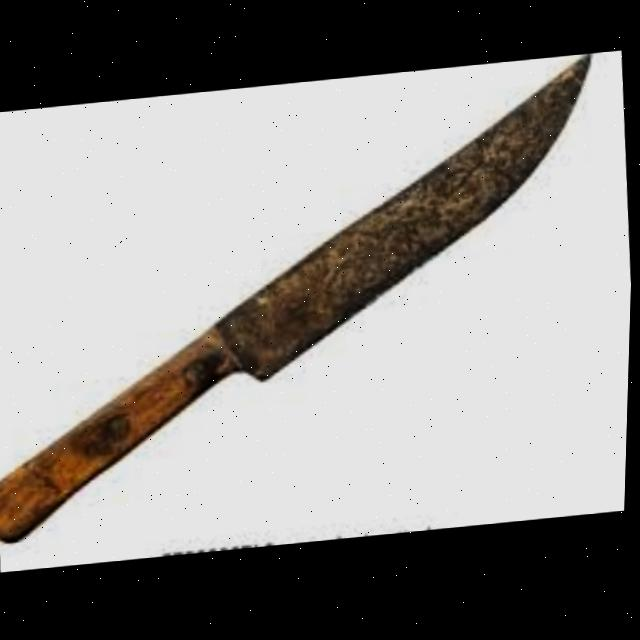Knife: (0, 54, 625, 543)
